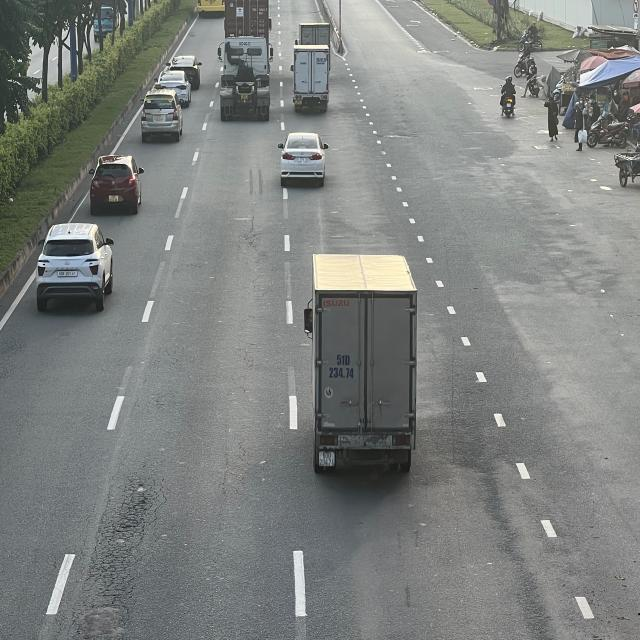car: (35, 224, 114, 312), (91, 158, 146, 217), (276, 131, 328, 188), (140, 92, 184, 142), (157, 68, 191, 102), (168, 52, 200, 88)
container: (226, 0, 273, 37)
truck: (304, 254, 417, 472), (216, 36, 274, 118), (290, 42, 330, 112)
